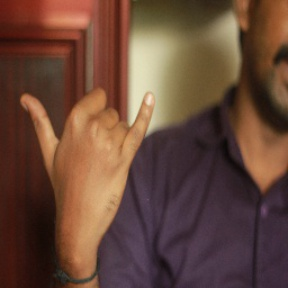J: (18, 71, 157, 230)
